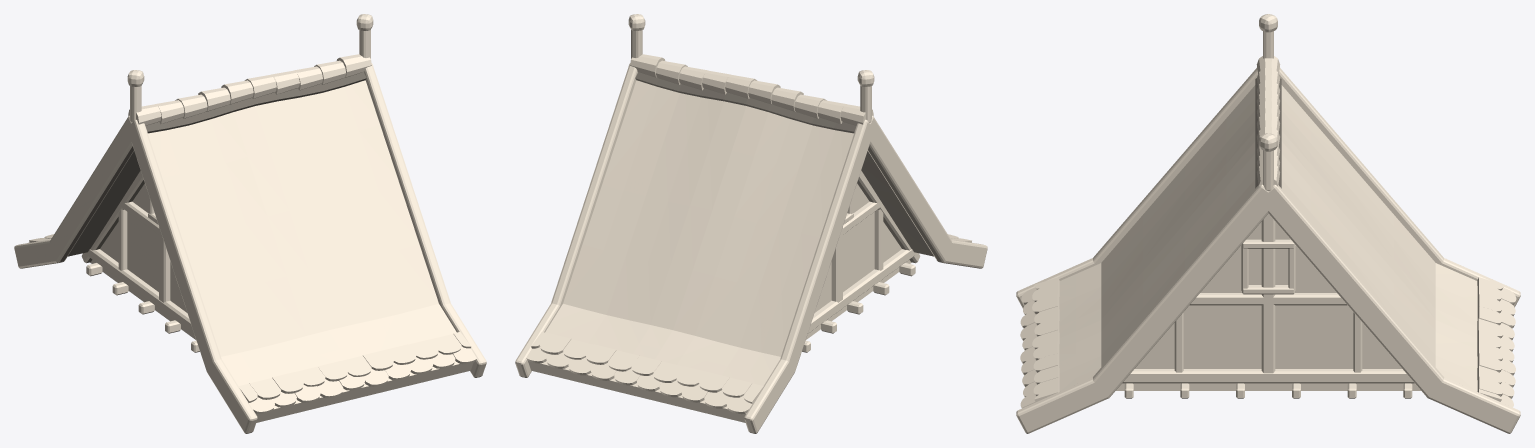
Rendered from SM_VK_Roof_Single.fbx.
The picture shows the model from 3 angles, left to right: view 1: azimuth 30°, elevation 25°; view 2: azimuth 150°, elevation 25°; view 3: azimuth 270°, elevation 25°; orthographic projection. The views are drawn at different scales.
Parts seen in each view (by area): view 1: SM_VK_Roof_Single.001; view 2: SM_VK_Roof_Single.001; view 3: SM_VK_Roof_Single.001.
Part boxes in pixels (x1=…): SM_VK_Roof_Single.001: x1=14, y1=14, x2=486, y2=433; SM_VK_Roof_Single.001: x1=515, y1=14, x2=987, y2=433; SM_VK_Roof_Single.001: x1=1016, y1=14, x2=1520, y2=433.
Bounding box in the file's own units: 5.4 × 5.89 × 9.04.
